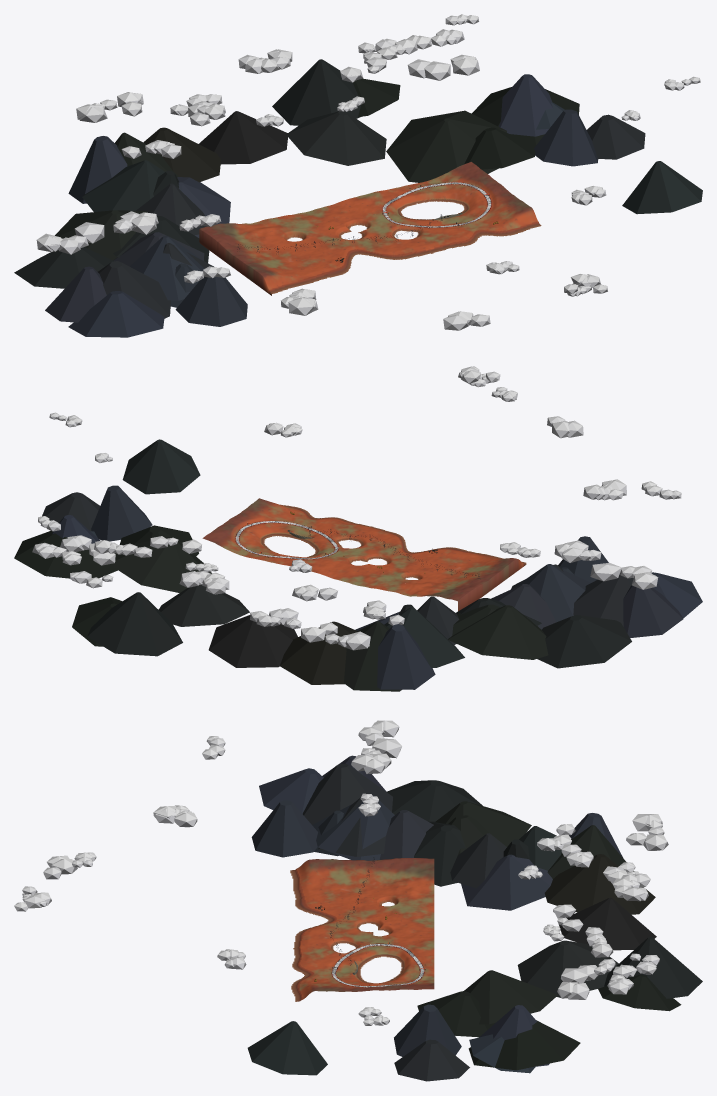
The model's file is level.glb.
3 renders of one model, top to bottom at view 1: azimuth 30°, elevation 25°; view 2: azimuth 150°, elevation 25°; view 3: azimuth 270°, elevation 25°, orthographic. The views are drawn at different scales.
Visible parts, largest first — view 1: backdrop, clouds, terrain_0_3, terrain_0_2, terrain_3_3, terrain_1_3, terrain_2_3, terrain_1_2, terrain_3_2, terrain_2_2, terrain_0_1, terrain_3_1 (+3 smaller); view 2: backdrop, clouds, terrain_0_2, terrain_3_2, terrain_0_3, terrain_1_3, terrain_1_2, terrain_3_3, terrain_2_2, terrain_2_3, terrain_2_1, terrain_0_1 (+1 smaller); view 3: backdrop, clouds, terrain_0_3, terrain_0_2, terrain_1_3, terrain_1_2, terrain_2_2, terrain_2_3, terrain_3_2, terrain_0_1, terrain_3_3, terrain_2_1 (+1 smaller).
Part boxes in pixels (x1,y1,x2,y2): backdrop: (14, 59, 702, 337); clouds: (36, 14, 700, 330); terrain_0_3: (199, 219, 295, 263); terrain_0_2: (228, 242, 324, 284); terrain_3_3: (404, 162, 499, 204); terrain_1_3: (268, 203, 358, 241); terrain_2_3: (336, 186, 419, 227); terrain_1_2: (296, 229, 392, 264); terrain_3_2: (443, 184, 528, 230); terrain_2_2: (366, 217, 460, 247); terrain_0_1: (257, 264, 337, 295); terrain_3_1: (462, 206, 541, 242); backdrop: (14, 439, 702, 691); clouds: (32, 366, 681, 650); terrain_0_2: (422, 555, 512, 594); terrain_3_2: (229, 500, 320, 539); terrain_0_3: (394, 574, 485, 611); terrain_1_3: (330, 563, 420, 591); terrain_1_2: (359, 539, 447, 573); terrain_3_3: (202, 519, 277, 560); terrain_2_2: (301, 524, 384, 561); terrain_2_3: (266, 550, 354, 577); terrain_2_1: (321, 517, 395, 538); terrain_0_1: (449, 549, 526, 574); backdrop: (247, 755, 702, 1081); clouds: (14, 720, 668, 1025); terrain_0_3: (377, 858, 434, 903); terrain_0_2: (319, 859, 376, 900); terrain_1_3: (377, 897, 434, 934); terrain_1_2: (319, 900, 376, 934); terrain_2_2: (319, 933, 376, 968); terrain_2_3: (377, 932, 434, 968); terrain_3_2: (319, 966, 376, 991); terrain_0_1: (290, 859, 319, 903); terrain_3_3: (377, 964, 434, 990); terrain_2_1: (292, 933, 319, 968).
Bounding box in the file's own units: 3088 × 414 × 2834.
